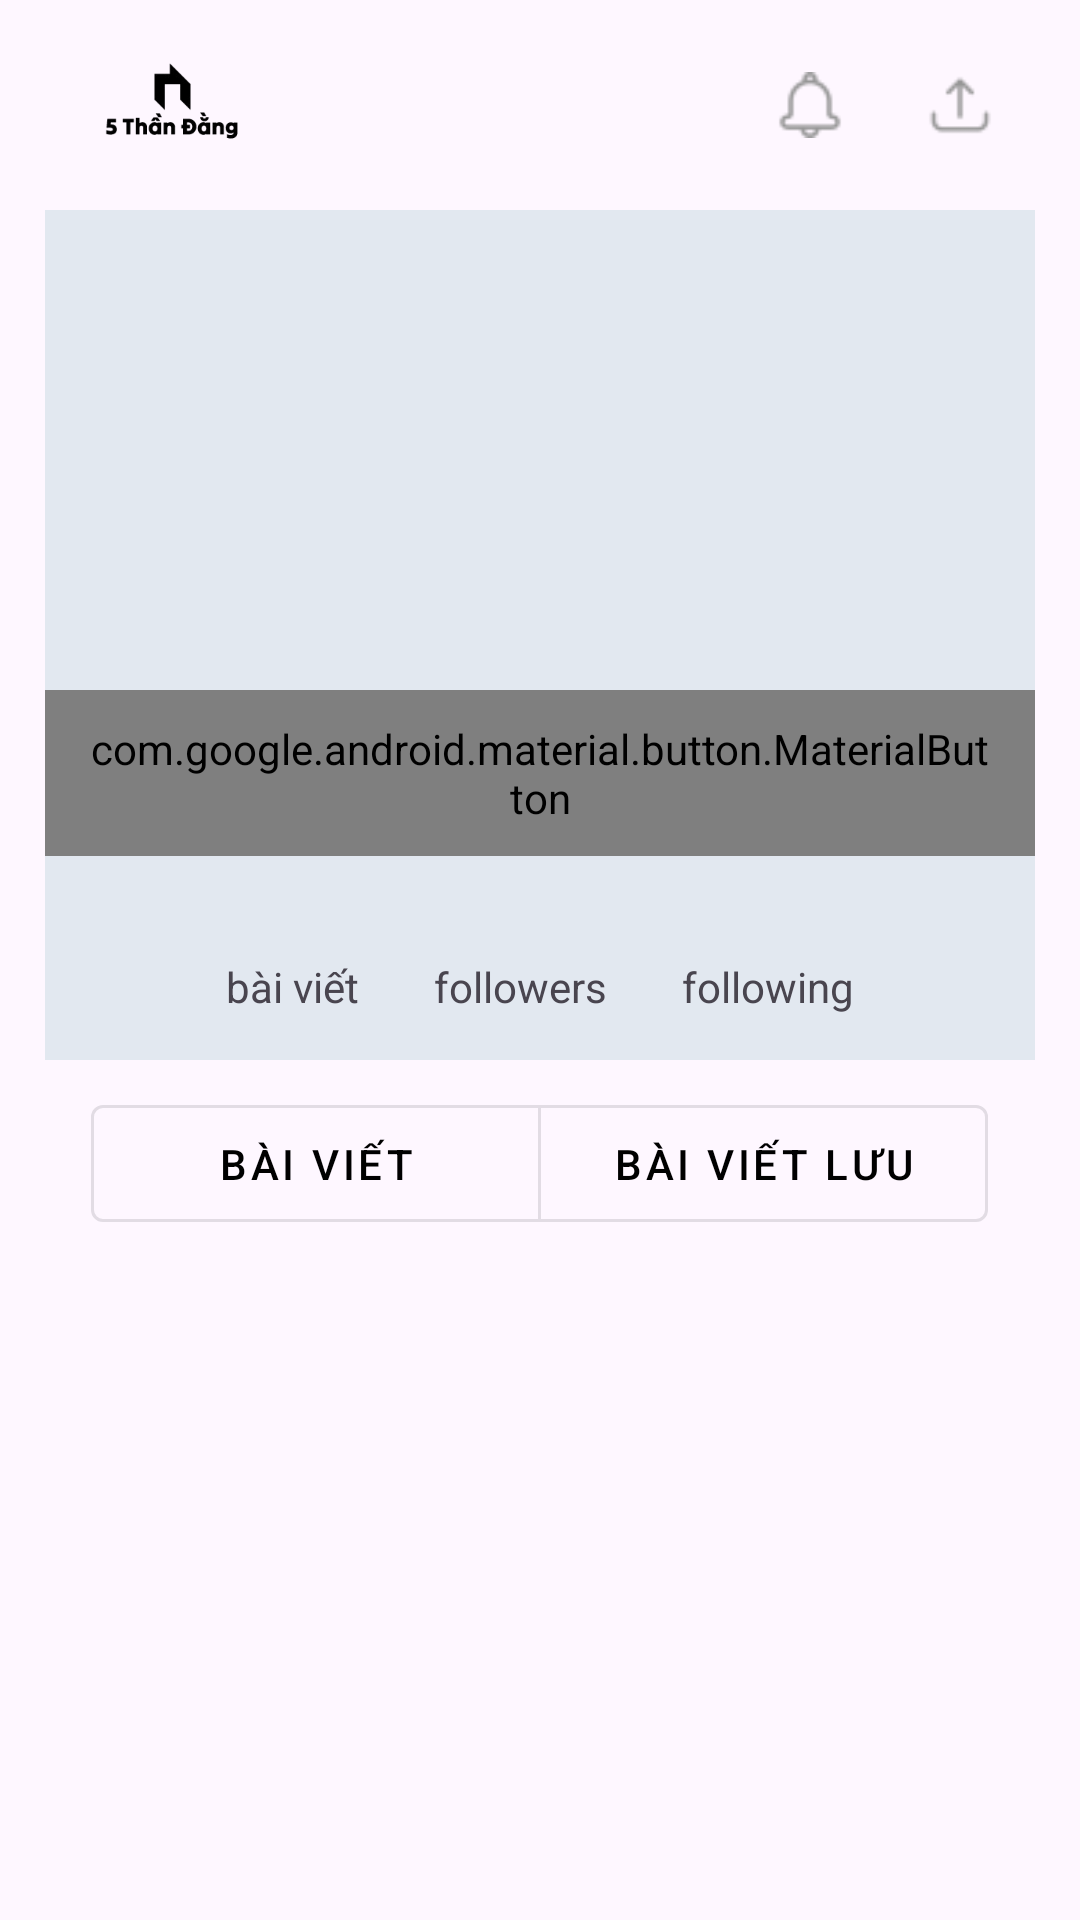

Locate icon controls on the screen. Image size 1080 × 1920, boxes as (x1, y1, x2, y2).
notification: (779, 72, 841, 138)
upload: (930, 78, 990, 133)
